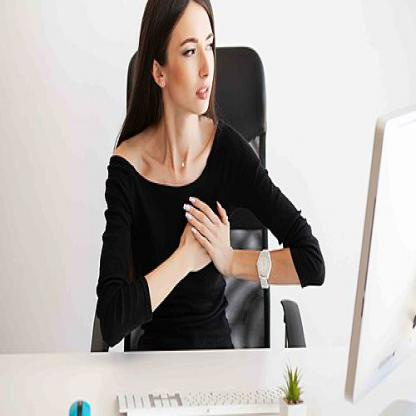pain: (178, 28, 218, 61)
